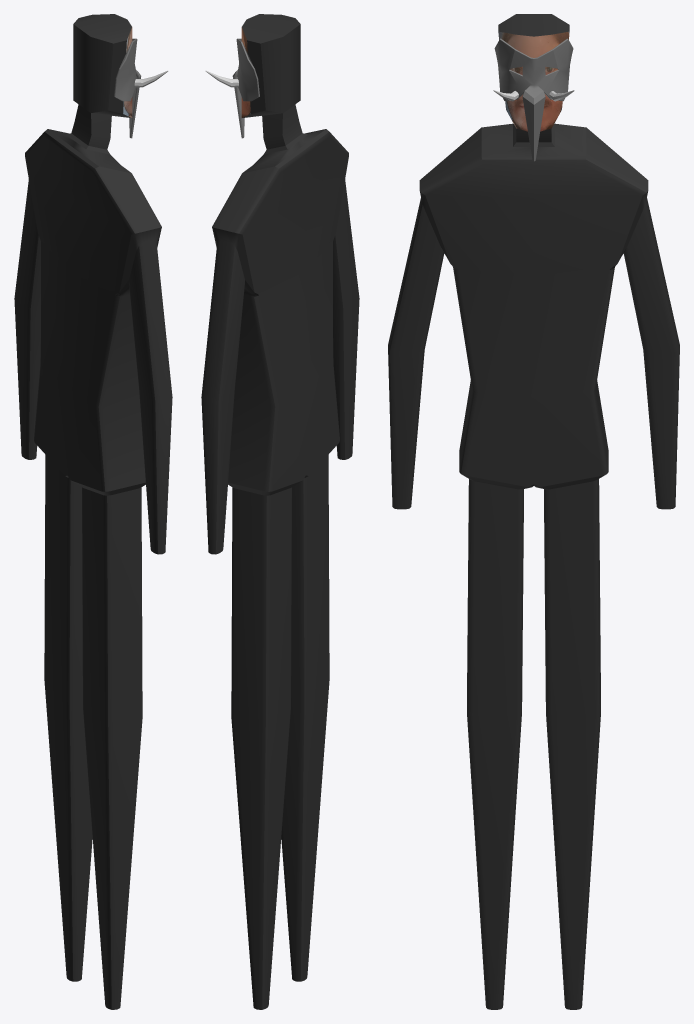
File: Elephant.fbx
3 views of the same model, side by side, from view 1: azimuth 30°, elevation 25°; view 2: azimuth 150°, elevation 25°; view 3: azimuth 270°, elevation 25° (orthographic). The views are drawn at different scales.
Parts seen in each view (by area): view 1: Elephant; view 2: Elephant; view 3: Elephant.
Part boxes in pixels (bbox=[...]): Elephant: bbox=[14, 14, 172, 1009]; Elephant: bbox=[201, 14, 359, 1009]; Elephant: bbox=[388, 14, 679, 1009].
Bounding box in the file's own units: 0.9597 × 10.93 × 2.93.
